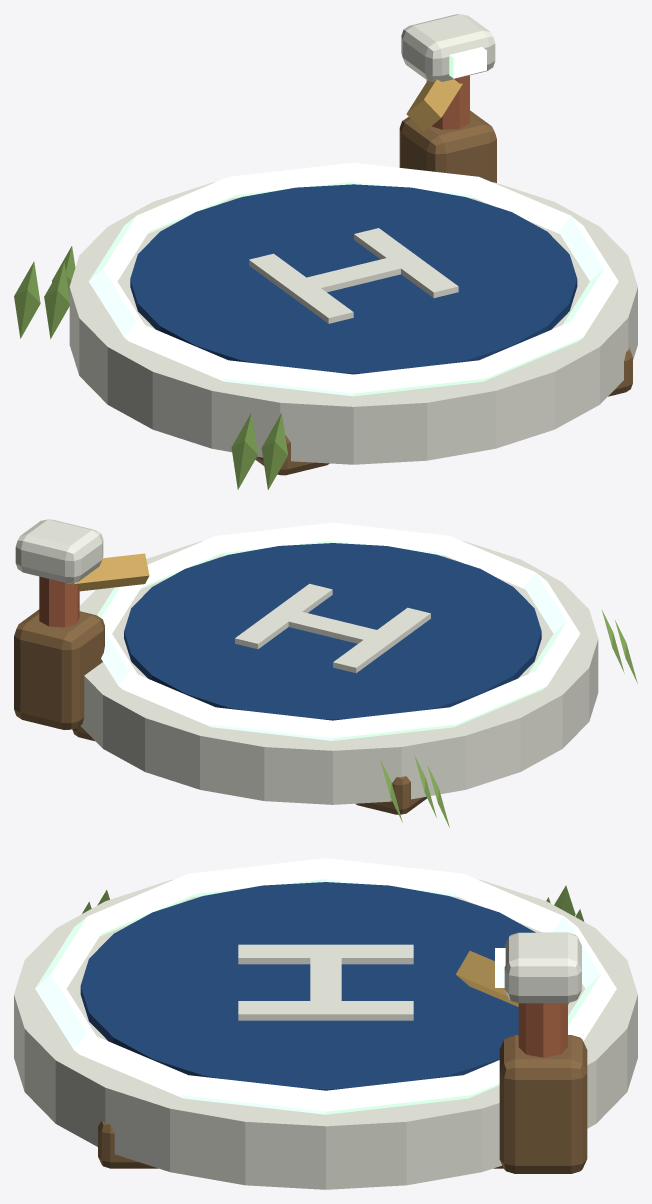
The model's file is drone_pad.glb.
The picture shows the model from 3 angles, top to bottom: view 1: azimuth 30°, elevation 25°; view 2: azimuth 150°, elevation 25°; view 3: azimuth 270°, elevation 25°; orthographic projection. The views are drawn at different scales.
Visible parts, largest first — view 1: Pad_solar_blue_landing_disc, Pad_ceramic_landing_platform, Pad_emissive_charge_ring, Pad_charger_base, Pad_ceramic_charging_head, Pad_landing_mark, Pad_landing_mark.001, Pad_landing_mark_crossbar, Pad_charging_arm, decor_Grass, decor_Grass.003, decor_Grass.005 (+3 smaller); view 2: Pad_solar_blue_landing_disc, Pad_ceramic_landing_platform, Pad_emissive_charge_ring, Pad_charger_base, Pad_ceramic_charging_head, Pad_landing_mark, Pad_landing_mark.001, Pad_charging_arm, Pad_copper_charging_mast, Pad_landing_mark_crossbar, Pad_timber_foot.002; view 3: Pad_solar_blue_landing_disc, Pad_ceramic_landing_platform, Pad_emissive_charge_ring, Pad_charger_base, Pad_ceramic_charging_head, Pad_landing_mark, Pad_landing_mark.001, Pad_copper_charging_mast, Pad_landing_mark_crossbar, Pad_charging_arm, Pad_timber_foot.001.
Part boxes in pixels (x1,y1,x2,y2): Pad_solar_blue_landing_disc: (130,184,577,374); Pad_ceramic_landing_platform: (69,170,637,464); Pad_emissive_charge_ring: (89,162,618,396); Pad_charger_base: (399,110,496,182); Pad_ceramic_charging_head: (401,14,495,81); Pad_landing_mark: (249,253,353,323); Pad_landing_mark.001: (354,228,458,297); Pad_landing_mark_crossbar: (301,258,400,292); Pad_charging_arm: (406,79,462,131); decor_Grass: (14,261,40,338); decor_Grass.003: (231,412,257,489); decor_Grass.005: (261,413,287,489); Pad_solar_blue_landing_disc: (124,543,541,720); Pad_ceramic_landing_platform: (79,530,598,804); Pad_emissive_charge_ring: (97,522,580,740); Pad_charger_base: (14,609,104,729); Pad_ceramic_charging_head: (15,519,103,583); Pad_landing_mark: (333,607,430,673); Pad_landing_mark.001: (235,583,332,649); Pad_charging_arm: (73,553,149,591); Pad_copper_charging_mast: (39,576,79,627); Pad_landing_mark_crossbar: (282,608,384,643); Pad_timber_foot.002: (355,776,426,814); Pad_solar_blue_landing_disc: (80,882,568,1090); Pad_ceramic_landing_platform: (14,867,637,1189); Pad_emissive_charge_ring: (35,858,616,1114); Pad_charger_base: (499,1035,587,1173); Pad_ceramic_charging_head: (504,932,581,1003); Pad_landing_mark: (238,944,413,964); Pad_landing_mark.001: (238,1001,413,1020); Pad_copper_charging_mast: (518,1003,567,1057); Pad_landing_mark_crossbar: (310,949,341,1010); Pad_charging_arm: (456,951,518,1006); Pad_timber_foot.001: (98,1121,158,1168).
Bounding box in the file's own units: 1.78 × 0.74 × 1.78.
